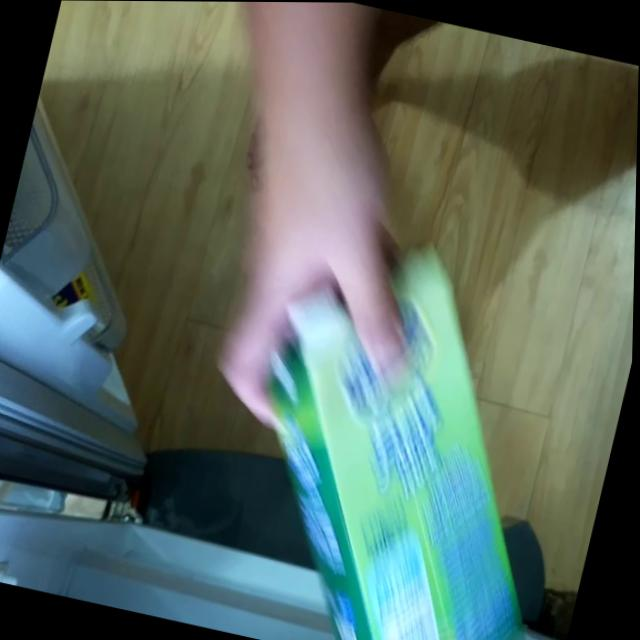milk: (204, 230, 602, 640)
